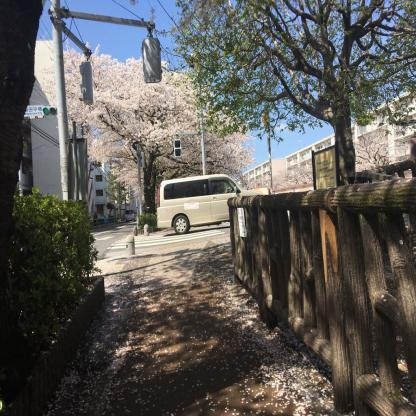Someiyoshino: (37, 34, 259, 202), (350, 121, 402, 173), (255, 160, 319, 188)
